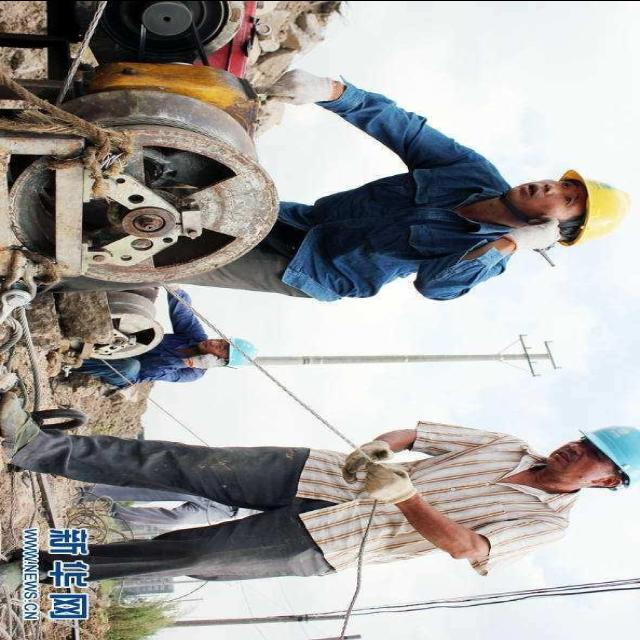helmet: (555, 160, 625, 254), (584, 413, 640, 501)
